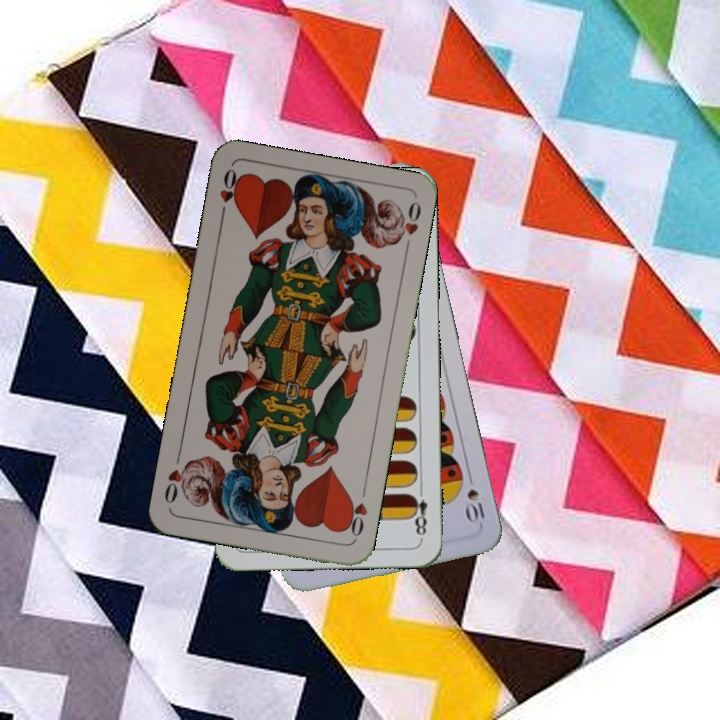E8: (407, 482, 430, 541)
HO: (341, 483, 370, 542), (215, 164, 243, 223)
S10: (462, 468, 487, 526)
